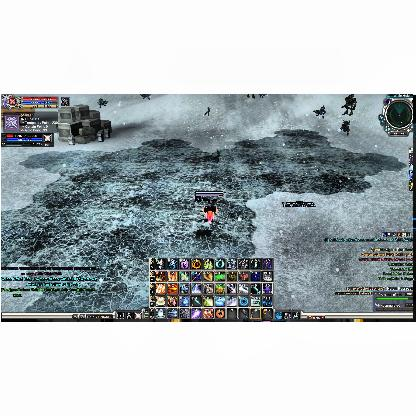caliana: (212, 149, 220, 163), (204, 107, 210, 116)
